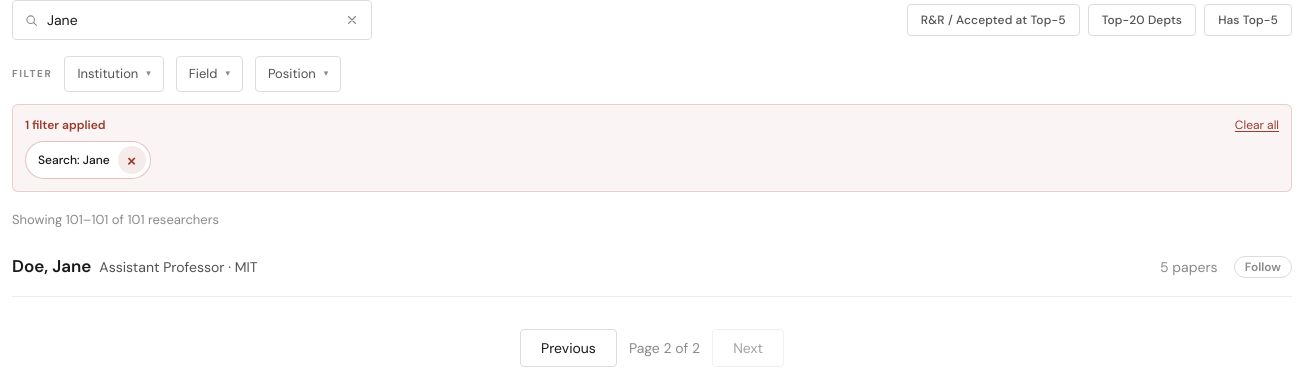
Test: ResearchersContent › loads a linked page and resets pagination when a filter changes
Expected: the text "Page 2 of 2" is shown, [629,338,700,358]
Click the button "Top-20 Depts". click: x=1142, y=20
box: [1088,4,1196,36]
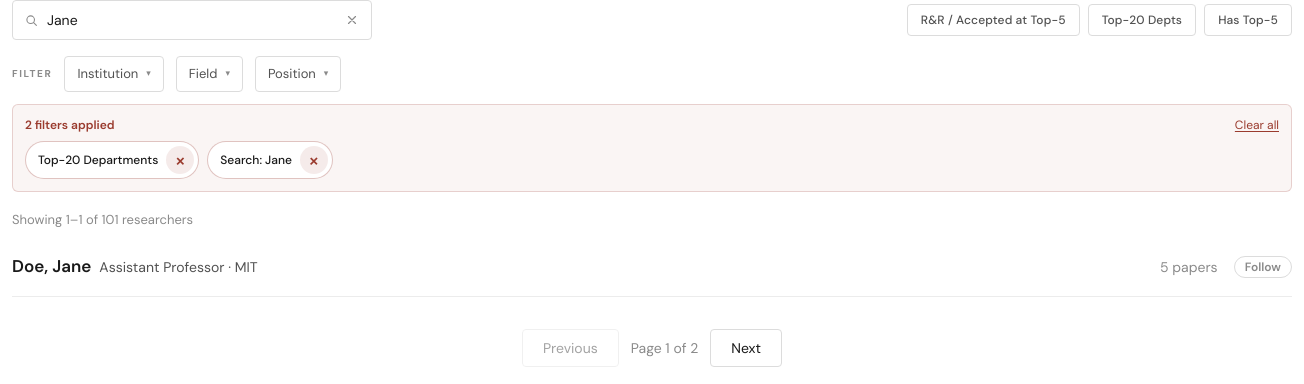
Expected: the text "Page 1 of 2" is shown, [631,338,698,358]
